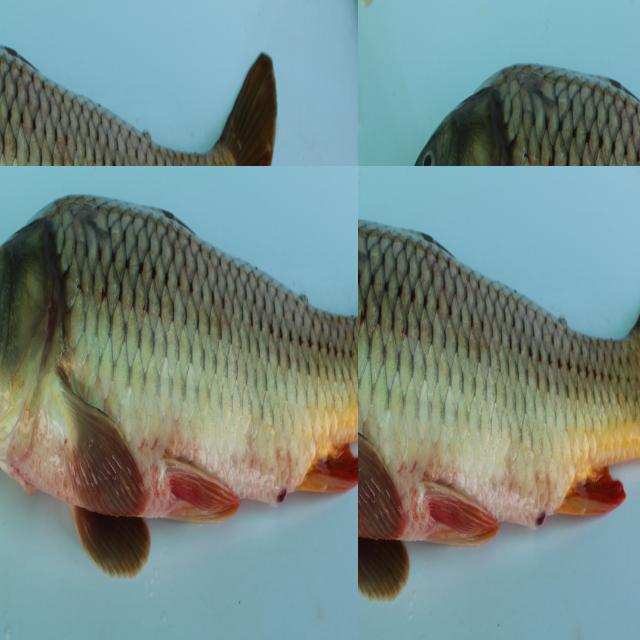fish: (358, 187, 640, 615), (0, 0, 358, 166), (447, 0, 513, 126)
